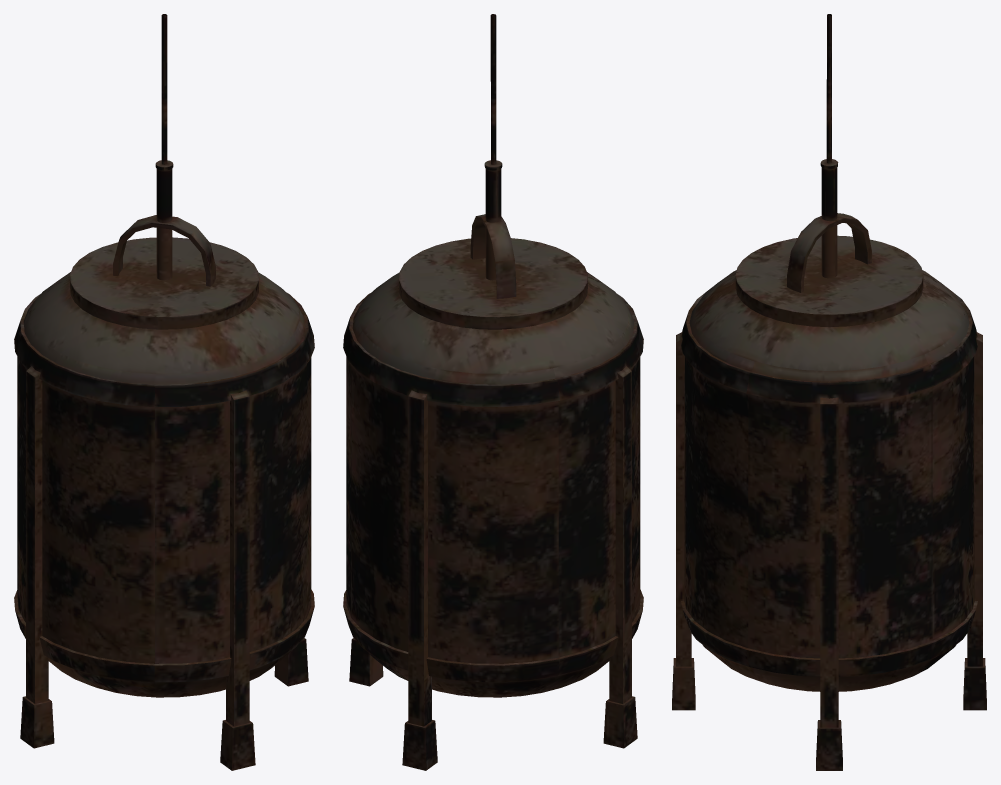
Rendered from ew-boiler.lod0.glb.
3 renders of one model, left to right at view 1: azimuth 30°, elevation 25°; view 2: azimuth 150°, elevation 25°; view 3: azimuth 270°, elevation 25°, orthographic.
Parts seen in each view (by area): view 1: Boiler__0; view 2: Boiler__0; view 3: Boiler__0.
Part boxes in pixels (x1,y1,x2,y2): Boiler__0: [14, 14, 314, 770]; Boiler__0: [343, 14, 643, 770]; Boiler__0: [672, 14, 986, 770].
Bounding box in the file's own units: 1.57 × 3.8 × 1.57.
Materials: 1 (1 with a texture image).
